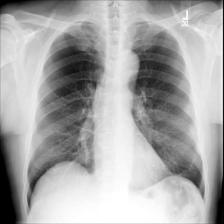normal: (22, 17, 208, 211)
